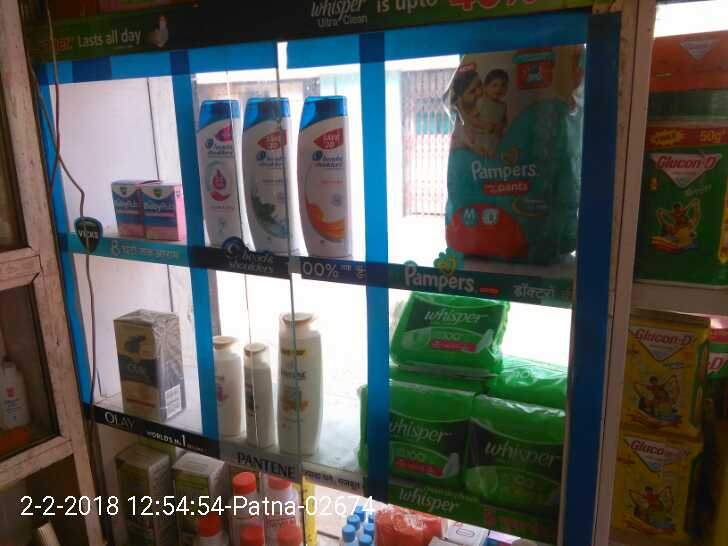beauty: (294, 94, 361, 258), (238, 96, 294, 255), (274, 304, 330, 456), (113, 295, 173, 421), (201, 100, 240, 251), (237, 341, 284, 455), (209, 336, 235, 446)
pharmacy: (437, 55, 584, 265), (468, 391, 555, 509), (389, 298, 513, 378), (381, 384, 460, 488), (141, 177, 185, 245), (105, 182, 138, 239)
